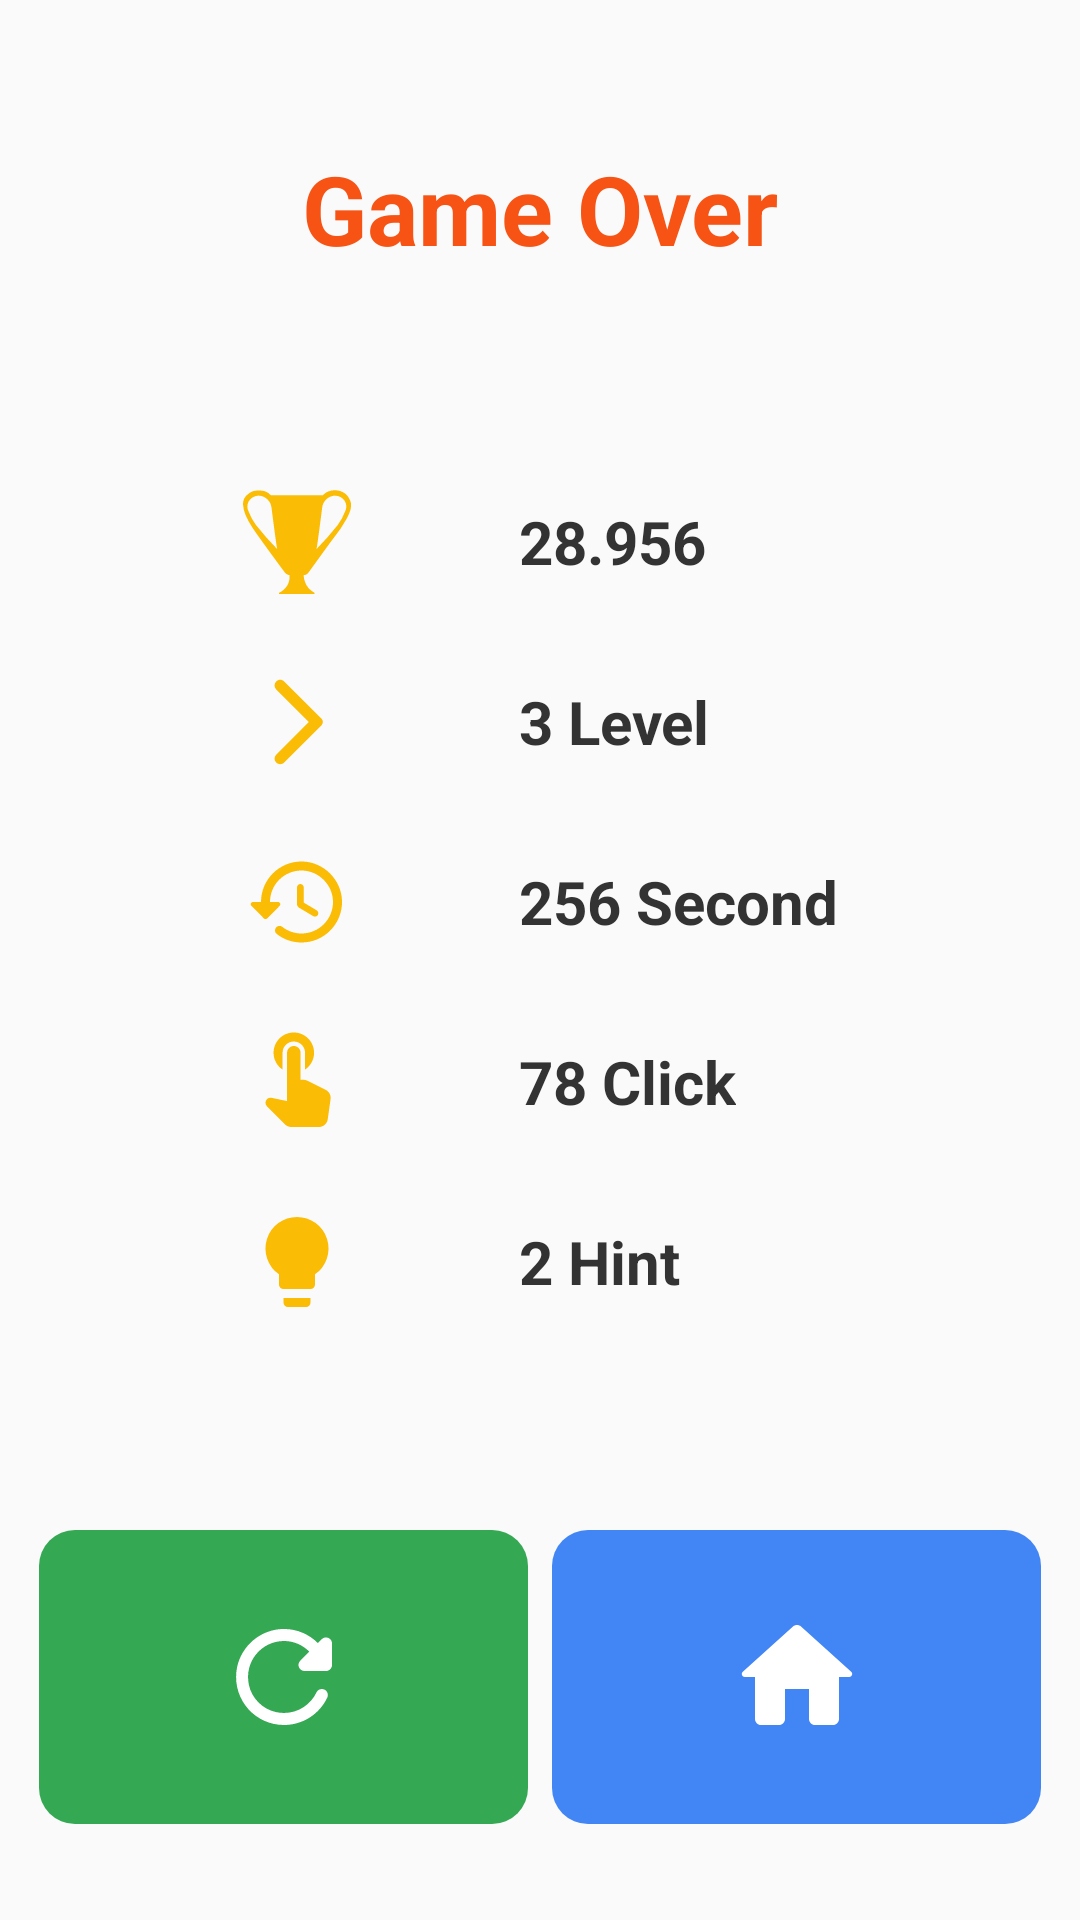

Icon bounding boxes for this 1080 × 1920 phone screenshot, format bbox(x1, y1, x2, y2):
cup: bbox(243, 490, 351, 594)
hint main: bbox(265, 1217, 329, 1307)
time: bbox(250, 861, 342, 943)
touch: bbox(265, 1032, 331, 1127)
